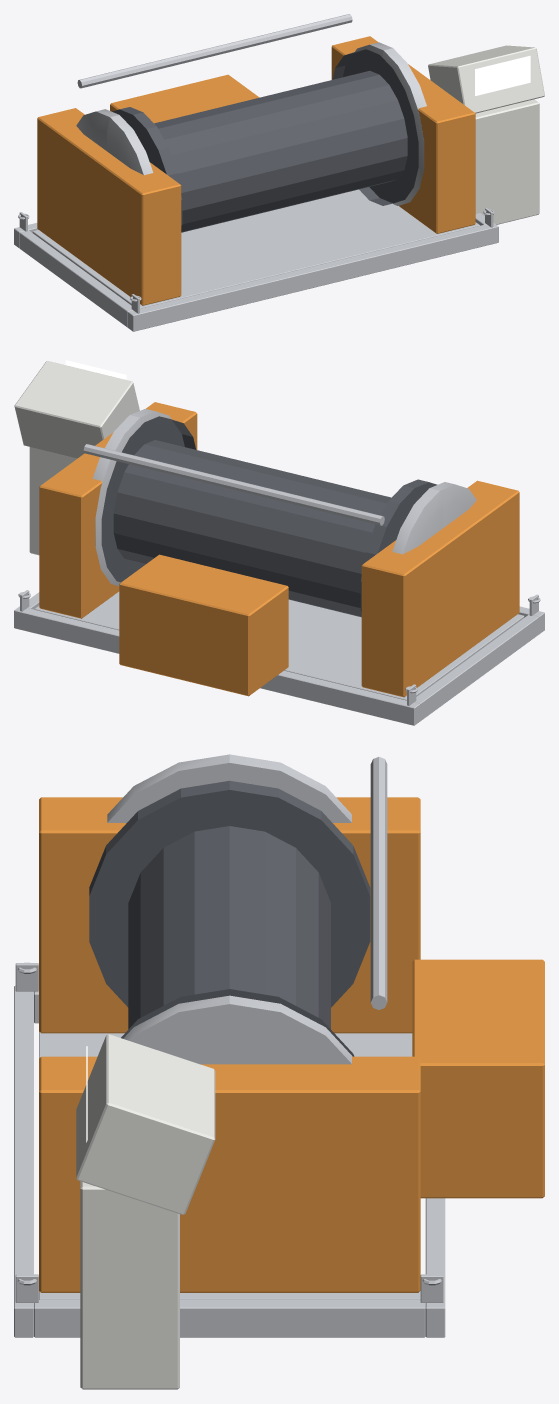
Rendered from offshore-oil-rig-and-platform-drawworks-91d0d942__37018.glb.
The picture shows the model from 3 angles, top to bottom: view 1: azimuth 30°, elevation 25°; view 2: azimuth 150°, elevation 25°; view 3: azimuth 270°, elevation 25°; orthographic projection. The views are drawn at different scales.
Parts seen in each view (by area): view 1: drawworks, drum-drawworks; view 2: drawworks, drum-drawworks; view 3: drawworks, drum-drawworks.
Part boxes in pixels (x1,y1,x2,y2): drawworks: (14,14,544,331); drum-drawworks: (112,49,418,232); drawworks: (14,360,544,725); drum-drawworks: (101,416,437,617); drawworks: (14,754,544,1389); drum-drawworks: (89,780,370,1056).
Size of the model in its own units: 5.4 by 2 by 3.2.
